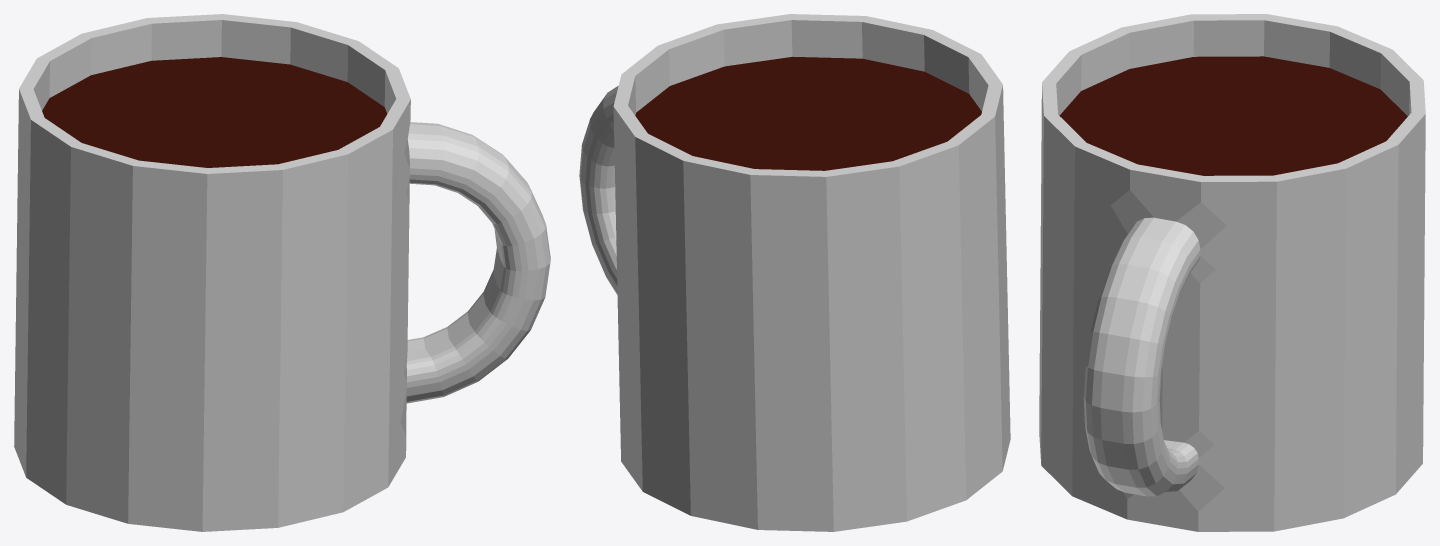
Rendered from OnlyCoffee.fbx.
The picture shows the model from 3 angles, left to right: view 1: azimuth 30°, elevation 25°; view 2: azimuth 150°, elevation 25°; view 3: azimuth 270°, elevation 25°; orthographic projection.
Visible parts, largest first — view 1: CoffeeMachine1.001; view 2: CoffeeMachine1.001; view 3: CoffeeMachine1.001.
Boxes of the visible parts, <box> form: CoffeeMachine1.001: <box>14,14,550,531</box>; CoffeeMachine1.001: <box>579,14,1010,531</box>; CoffeeMachine1.001: <box>1039,14,1425,531</box>.
Bounding box in the file's own units: 129 × 99.07 × 96.49.
